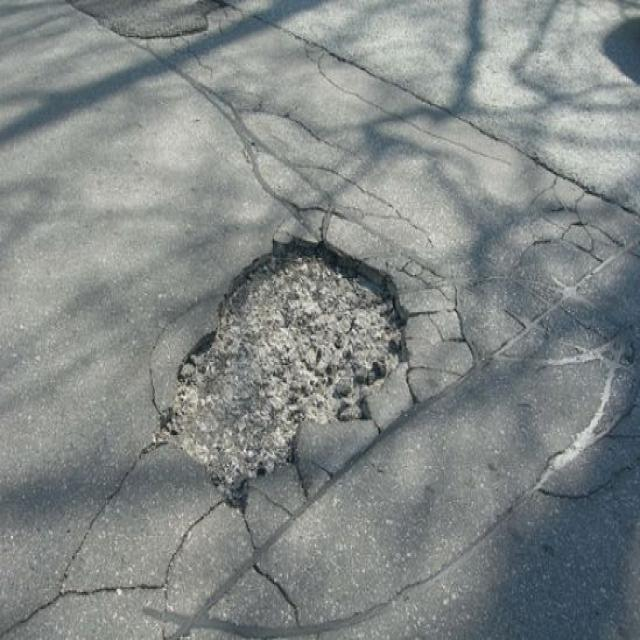Pothole: (149, 226, 409, 511)
